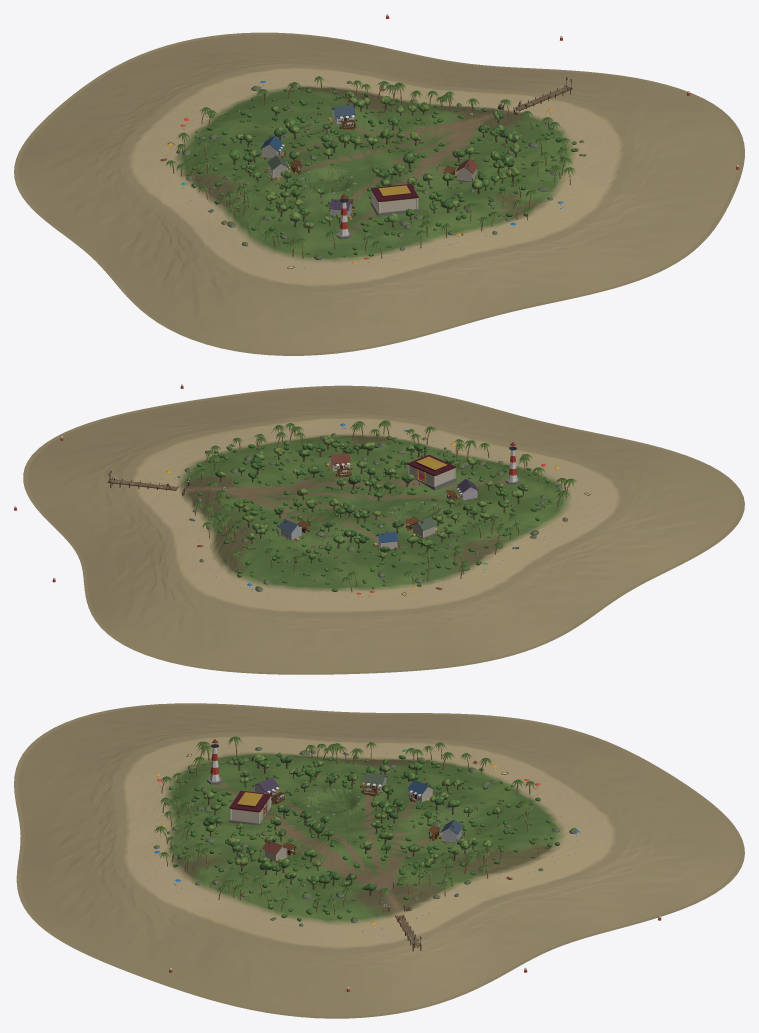
Rendered from cove.glb.
3 renders of one model, top to bottom at view 1: azimuth 30°, elevation 25°; view 2: azimuth 150°, elevation 25°; view 3: azimuth 270°, elevation 25°, orthographic. The views are drawn at different scales.
Parts seen in each view (by area): view 1: cove, cove_-1_-1, cove_0_-1, cove_-1_-2, cove_-2_-1, cove_0_-2, cove_1_-1, cove_-2_-2; view 2: cove, cove_-1_-1, cove_-1_-2, cove_0_-1, cove_0_-2, cove_1_-1, cove_-2_-1, cove_-2_-2, cove_1_-2; view 3: cove, cove_0_-1, cove_0_-2, cove_1_-1, cove_-1_-1, cove_-1_-2, cove_-2_-1, cove_-2_-2, cove_1_-2.
Boxes of the visible parts, x1,y1,x2,y2 form: cove: [90, 91, 744, 355]; cove_-1_-1: [103, 89, 369, 212]; cove_0_-1: [271, 69, 541, 165]; cove_-1_-2: [46, 47, 273, 145]; cove_-2_-1: [14, 144, 200, 255]; cove_0_-2: [170, 32, 440, 96]; cove_1_-1: [442, 35, 708, 126]; cove_-2_-2: [14, 116, 104, 178]; cove: [39, 384, 744, 592]; cove_-1_-1: [271, 504, 521, 623]; cove_-1_-2: [179, 575, 429, 674]; cove_0_-1: [110, 455, 362, 576]; cove_0_-2: [83, 550, 271, 663]; cove_1_-1: [14, 436, 202, 554]; cove_-2_-1: [426, 551, 627, 655]; cove_-2_-2: [377, 623, 512, 672]; cove_1_-2: [52, 545, 113, 582]; cove: [14, 703, 350, 1018]; cove_0_-1: [346, 811, 551, 929]; cove_0_-2: [537, 829, 743, 934]; cove_1_-1: [345, 905, 552, 1016]; cove_-1_-1: [346, 742, 548, 830]; cove_-1_-2: [542, 755, 742, 851]; cove_-2_-1: [345, 712, 549, 756]; cove_-2_-2: [539, 723, 657, 768]; cove_1_-2: [535, 915, 661, 953].
Bounding box in the file's own units: 304 × 29.45 × 298.
